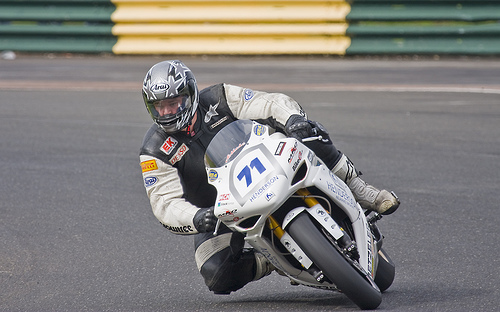helmet: (135, 62, 203, 128)
